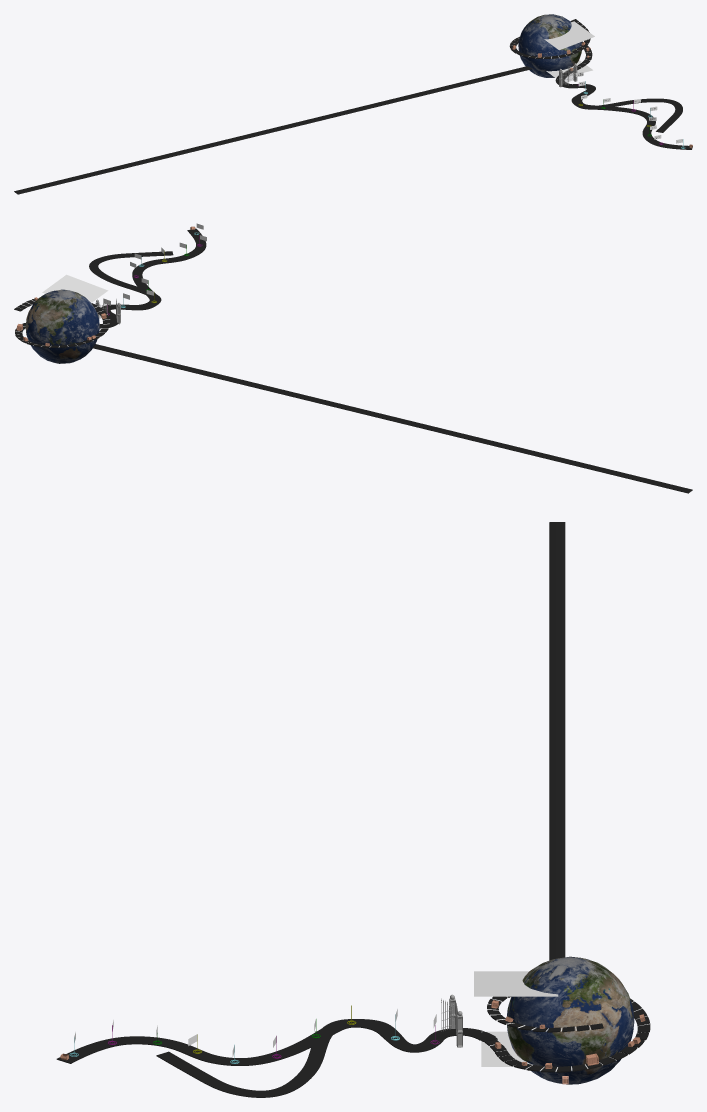
The model's file is MainChain2.glb.
The picture shows the model from 3 angles, top to bottom: view 1: azimuth 30°, elevation 25°; view 2: azimuth 150°, elevation 25°; view 3: azimuth 270°, elevation 25°; orthographic projection. The views are drawn at different scales.
Visible parts, largest first — view 1: road, Earth, road2, road_1, Plane.002; view 2: Earth, road, road2, road_1, Plane.002; view 3: Earth, road, road2, road_1, Plane.002.
Part boxes in pixels (x1=…): road: x1=14, y1=66, x2=532, y2=194; Earth: x1=518, y1=14, x2=581, y2=77; road2: x1=555, y1=75, x2=692, y2=149; road_1: x1=556, y1=73, x2=682, y2=132; Plane.002: x1=544, y1=21, x2=594, y2=50; Earth: x1=25, y1=289, x2=99, y2=363; road: x1=92, y1=344, x2=692, y2=493; road2: x1=99, y1=228, x2=206, y2=328; road_1: x1=89, y1=251, x2=173, y2=327; Plane.002: x1=42, y1=274, x2=108, y2=302; Earth: x1=507, y1=956, x2=634, y2=1084; road: x1=549, y1=522, x2=565, y2=960; road2: x1=56, y1=1023, x2=495, y2=1065; road_1: x1=156, y1=1019, x2=497, y2=1097; Plane.002: x1=474, y1=971, x2=558, y2=996.
Size of the model in its own units: 32.34 by 3.04 by 14.1.
Materials: 19 (1 with a texture image).
